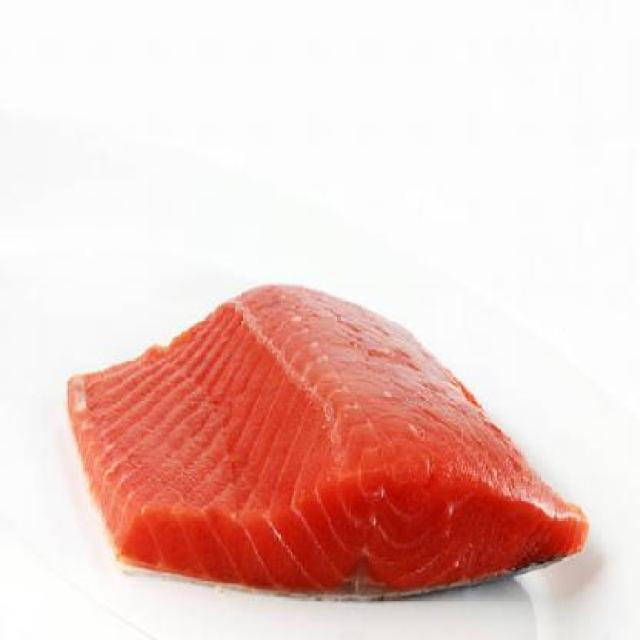salmon: (54, 248, 604, 610)
